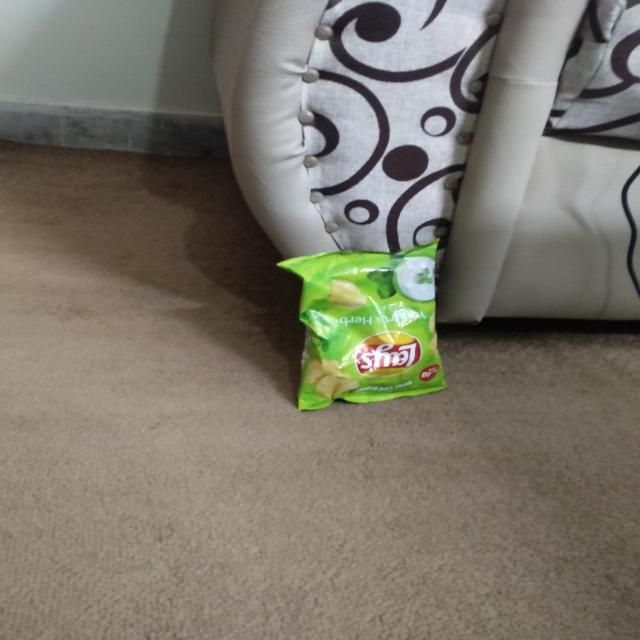Plastic: (298, 246, 434, 408)
